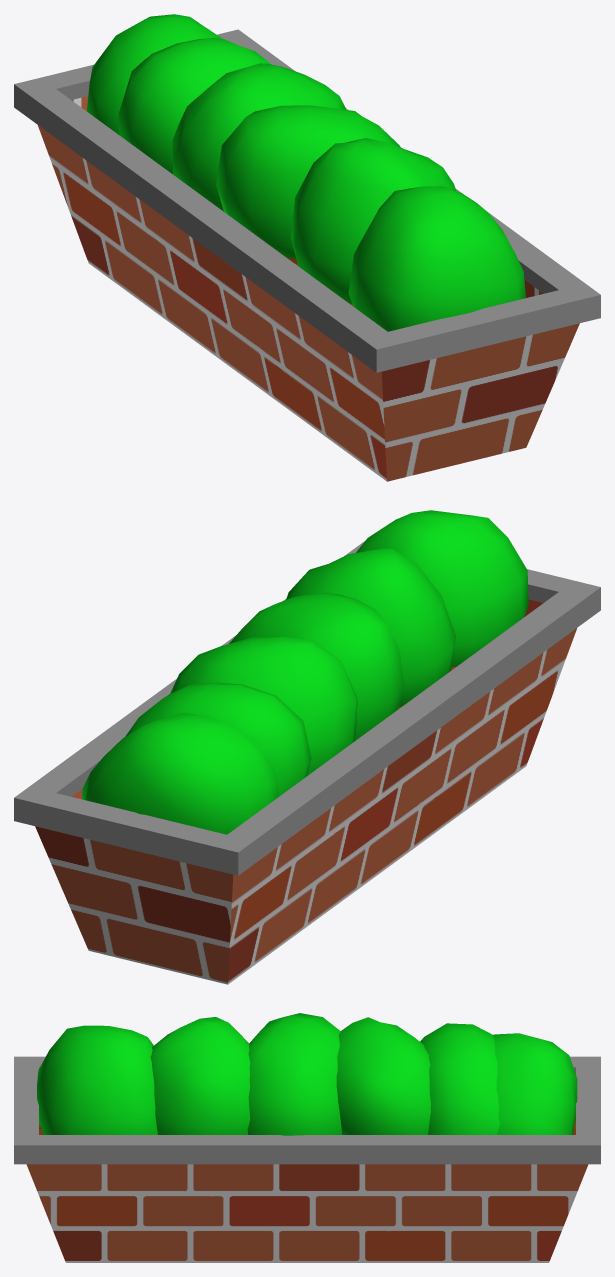
File: Arbusto.fbx
3 views of the same model, one above another, from view 1: azimuth 30°, elevation 25°; view 2: azimuth 150°, elevation 25°; view 3: azimuth 270°, elevation 25° (orthographic). The views are drawn at different scales.
Parts seen in each view (by area): view 1: Cube.002, Cube, Cube.001; view 2: Cube.002, Cube, Cube.001; view 3: Cube.002, Cube, Cube.001.
Boxes of the visible parts, <box> form: Cube.002: <box>87,14,525,331</box>; Cube: <box>38,96,579,481</box>; Cube.001: <box>14,29,600,372</box>; Cube.002: <box>82,510,528,834</box>; Cube: <box>35,599,576,984</box>; Cube.001: <box>14,541,600,875</box>; Cube.002: <box>37,1013,577,1135</box>; Cube: <box>26,1164,588,1262</box>; Cube.001: <box>14,1056,600,1164</box>.
Bounding box in the file's own units: 267 × 294 × 748.
